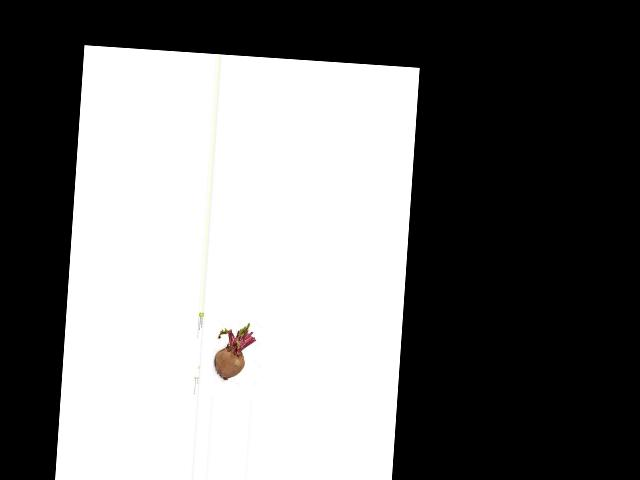beet: (213, 321, 256, 382)
